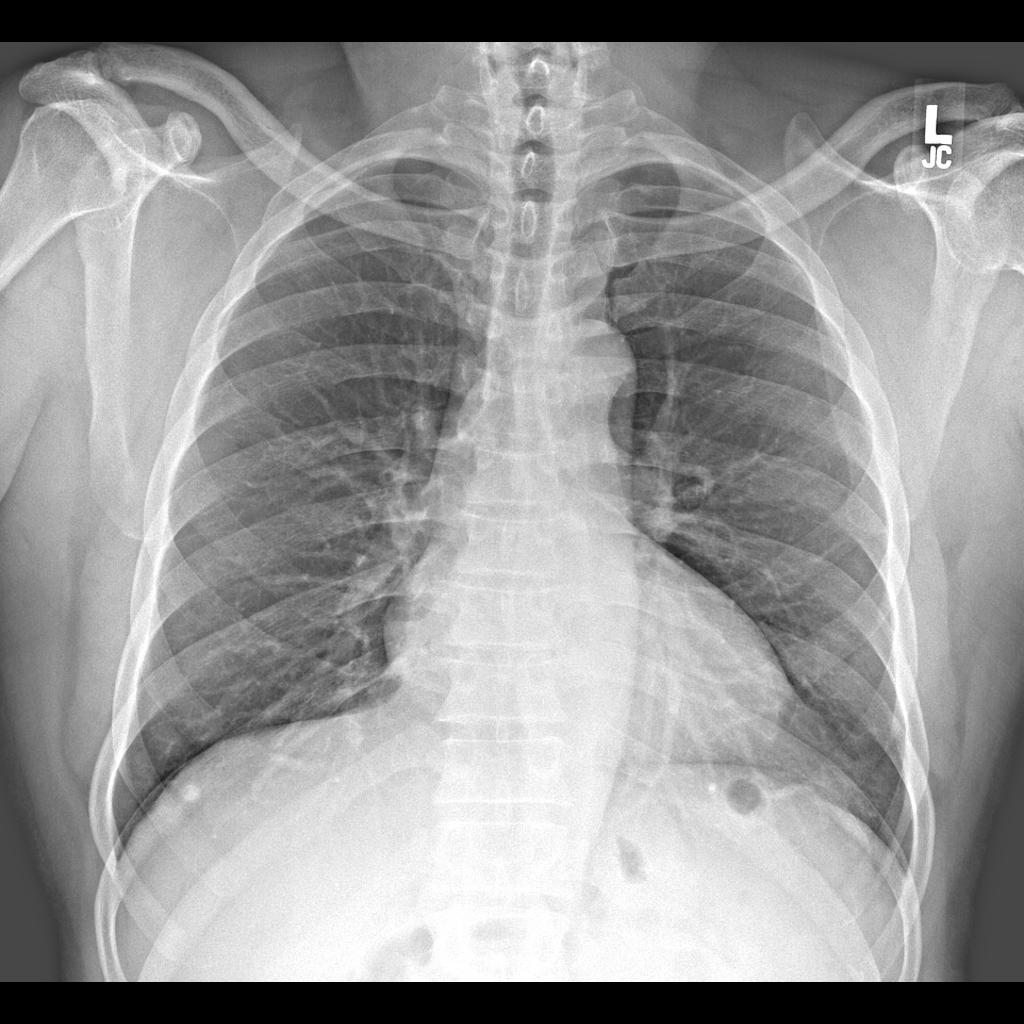Nodule: (178, 781, 211, 812)
